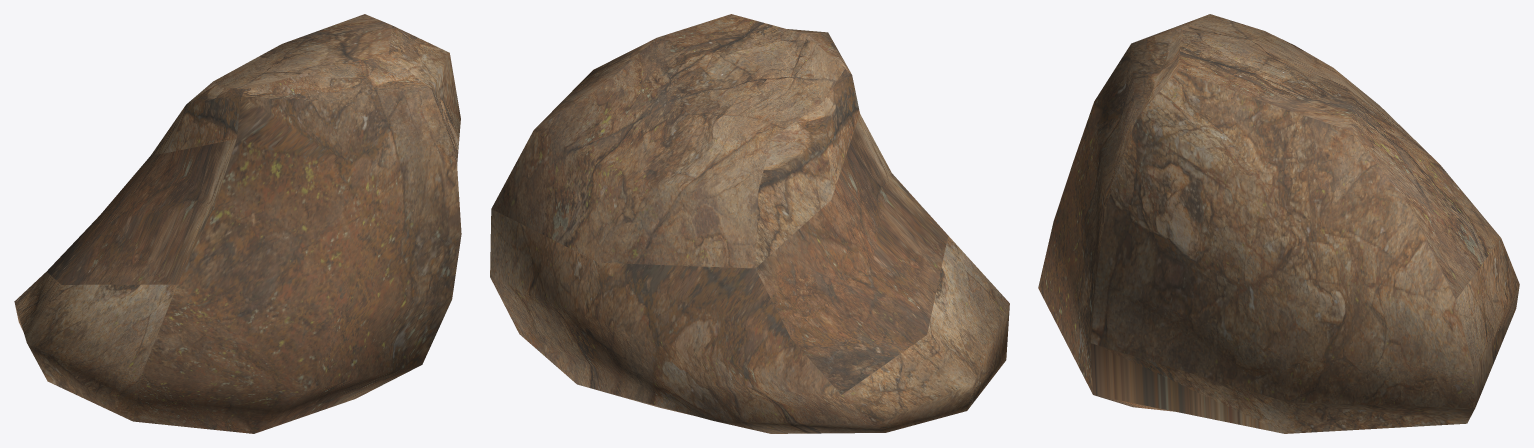
The model's file is Rock_1.fbx.
3 views of the same model, side by side, from view 1: azimuth 30°, elevation 25°; view 2: azimuth 150°, elevation 25°; view 3: azimuth 270°, elevation 25° (orthographic). The views are drawn at different scales.
Visible parts, largest first — view 1: rock_1; view 2: rock_1; view 3: rock_1.
Boxes of the visible parts, <box> form: rock_1: <box>14,14,461,433</box>; rock_1: <box>490,14,1009,433</box>; rock_1: <box>1038,14,1519,433</box>.
Bounding box in the file's own units: 27.54 × 19.79 × 23.37.
